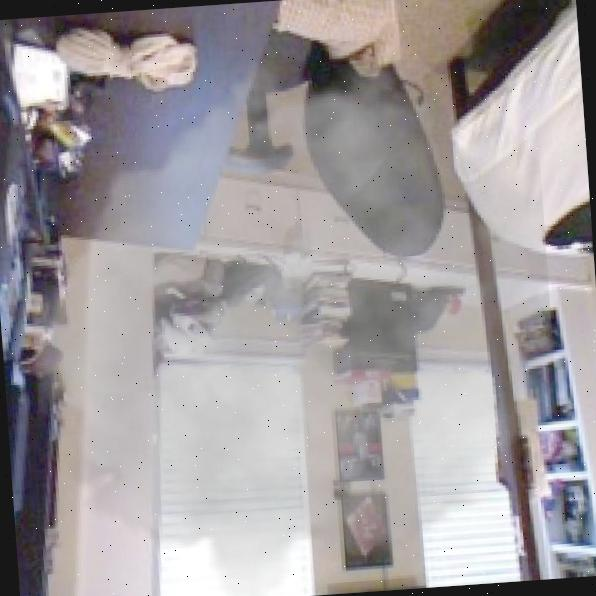smoke: (15, 22, 569, 596)
